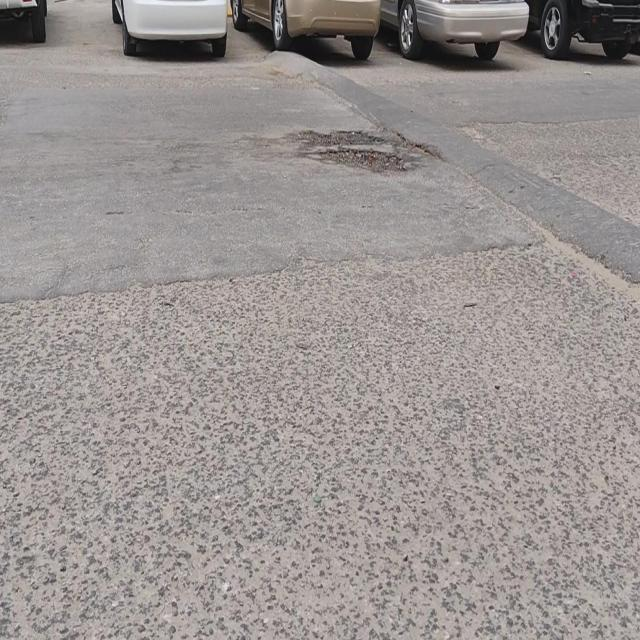Potholes: (296, 126, 409, 175)
